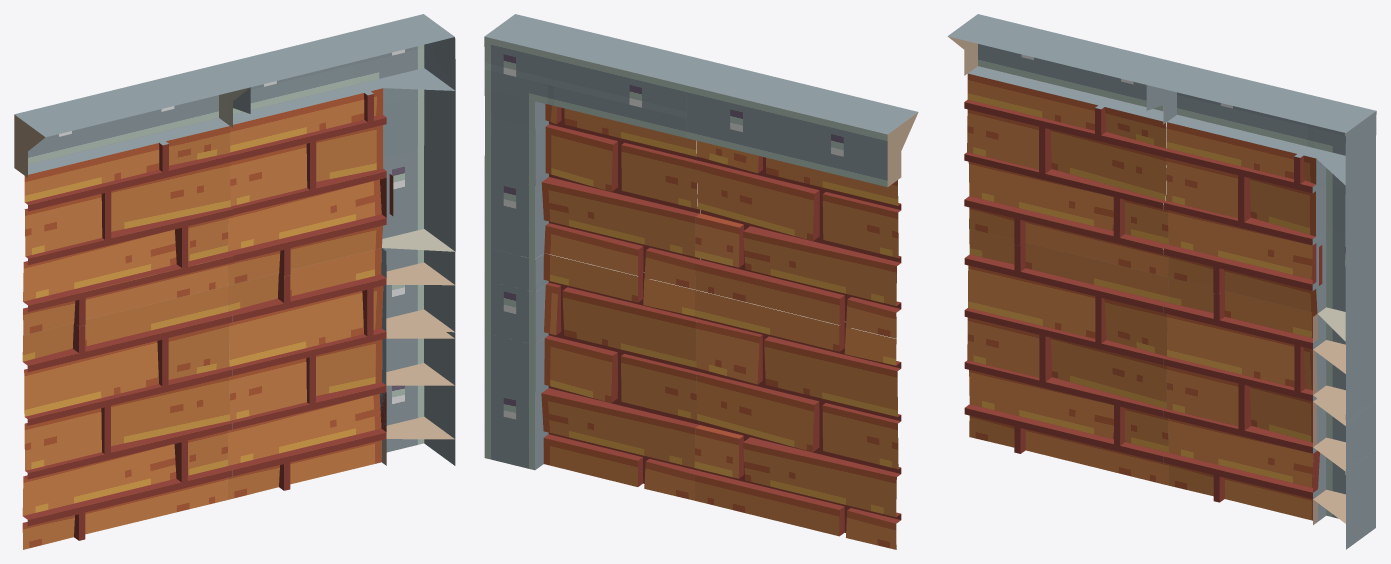
File: CornerTLKayu.fbx
The picture shows the model from 3 angles, left to right: view 1: azimuth 30°, elevation 25°; view 2: azimuth 150°, elevation 25°; view 3: azimuth 330°, elevation 25°; orthographic projection. The views are drawn at different scales.
Visible parts, largest first — view 1: CornertTLKayu; view 2: CornertTLKayu; view 3: CornertTLKayu.
Boxes of the visible parts, box(x1,y1,x2,y2) form: CornertTLKayu: box(14, 14, 455, 549); CornertTLKayu: box(484, 14, 918, 549); CornertTLKayu: box(947, 14, 1376, 549).
Size of the model in its own units: 12.85 by 94.81 by 94.81.
